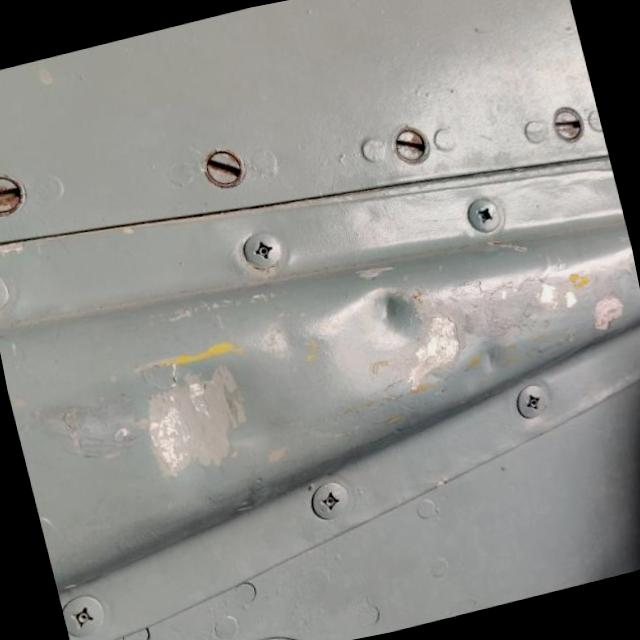dent: (320, 277, 458, 381)
